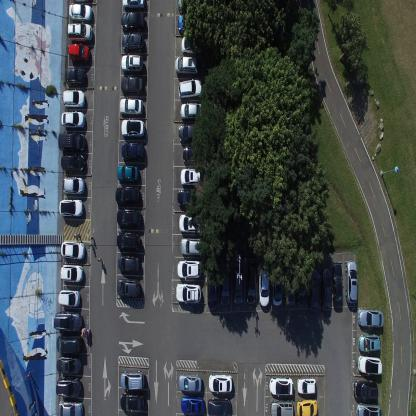car: (178, 212, 207, 234), (58, 130, 86, 152), (175, 282, 202, 304), (66, 20, 93, 42), (345, 260, 358, 304), (271, 258, 283, 305), (53, 311, 82, 330), (178, 121, 204, 142), (331, 261, 343, 306), (115, 183, 139, 205), (56, 376, 80, 398), (354, 378, 378, 400), (60, 239, 85, 260), (176, 258, 202, 278), (258, 260, 269, 307), (181, 35, 208, 54), (120, 50, 143, 72), (220, 260, 231, 306), (115, 230, 139, 251), (270, 377, 294, 398), (178, 372, 202, 393), (116, 277, 140, 298), (358, 354, 382, 375), (178, 78, 203, 98), (174, 54, 199, 74), (208, 373, 233, 393), (320, 267, 331, 312), (119, 392, 145, 411), (358, 309, 384, 328), (232, 264, 244, 305), (245, 262, 257, 303), (309, 268, 320, 312), (296, 263, 307, 307), (62, 174, 85, 195), (116, 208, 140, 228), (177, 187, 201, 207), (120, 370, 144, 390), (60, 262, 84, 282), (121, 117, 145, 137), (207, 262, 217, 310), (60, 153, 85, 172), (178, 14, 203, 33), (120, 11, 145, 30), (55, 334, 81, 352), (181, 395, 204, 415), (121, 140, 144, 160), (121, 75, 144, 95), (285, 260, 295, 306), (59, 198, 83, 217), (180, 165, 202, 185), (180, 100, 202, 120), (358, 332, 380, 352), (68, 42, 90, 62), (121, 31, 144, 50), (183, 144, 206, 163), (117, 254, 140, 273), (61, 110, 85, 128), (180, 237, 205, 254), (64, 66, 86, 85), (57, 400, 83, 416), (208, 397, 231, 415), (120, 96, 143, 114), (62, 89, 85, 107), (69, 2, 92, 20), (56, 356, 80, 373), (58, 288, 80, 306), (117, 164, 139, 182), (270, 400, 294, 416), (297, 376, 317, 395), (297, 398, 318, 416), (356, 402, 382, 415), (178, 0, 202, 13), (122, 0, 144, 10)
